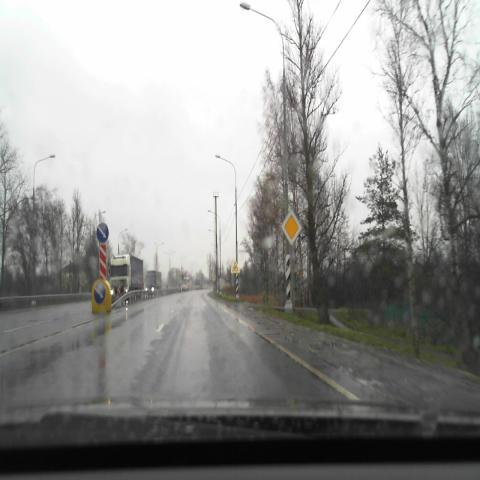4_2_1: (96, 222, 108, 243)
